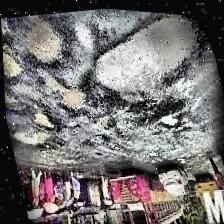pothole: (83, 6, 209, 108), (17, 13, 74, 75), (6, 105, 57, 153), (49, 68, 89, 118), (1, 44, 22, 82), (4, 78, 26, 114), (93, 110, 115, 138), (155, 108, 179, 128)
